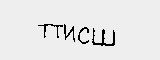И: (61, 23, 77, 42)
С: (76, 25, 91, 45)
Т: (37, 20, 51, 39), (51, 21, 63, 39)
Ш: (90, 25, 117, 46)
